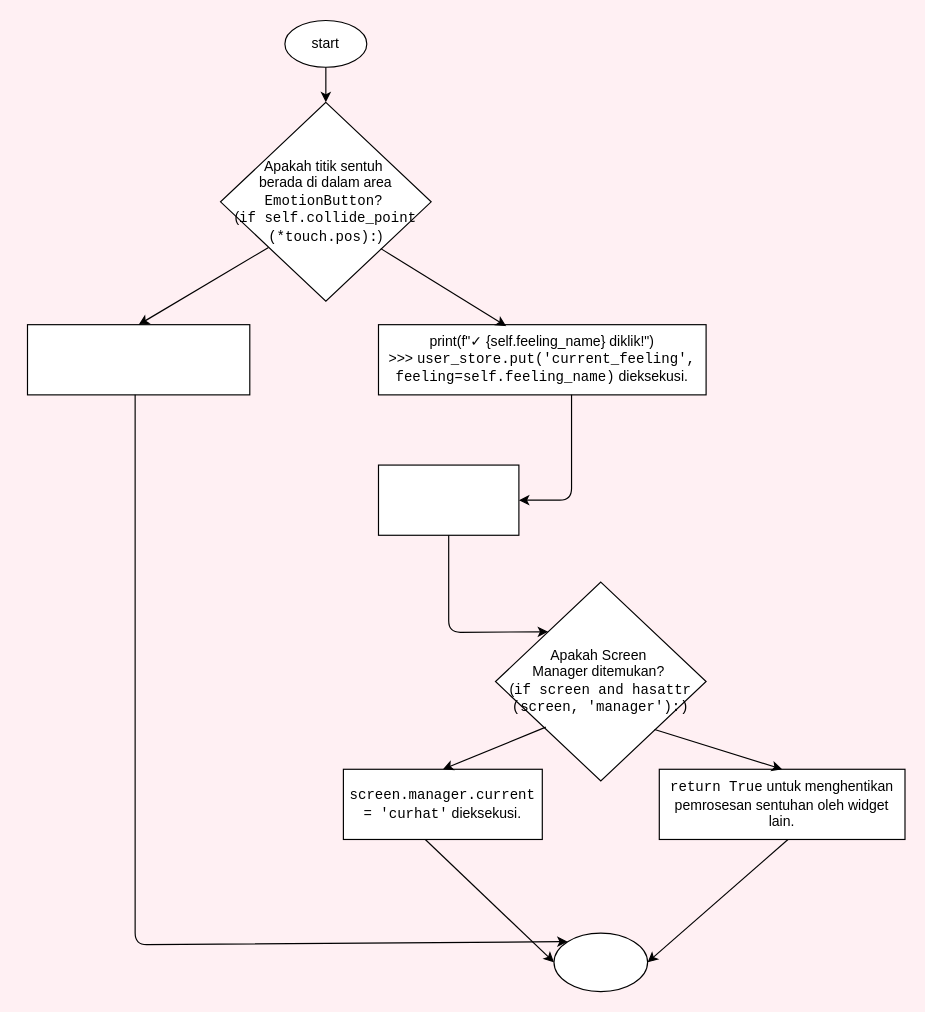
This 925x1012 diagram has some shape labels left out. The centre of each missing label's shape, as x and y in pixels:
"End" goes at point (600, 962).
"Jalankan return super().on_touch_down(touch)" goes at point (138, 359).
"screen = screen.parent" goes at point (448, 499).
